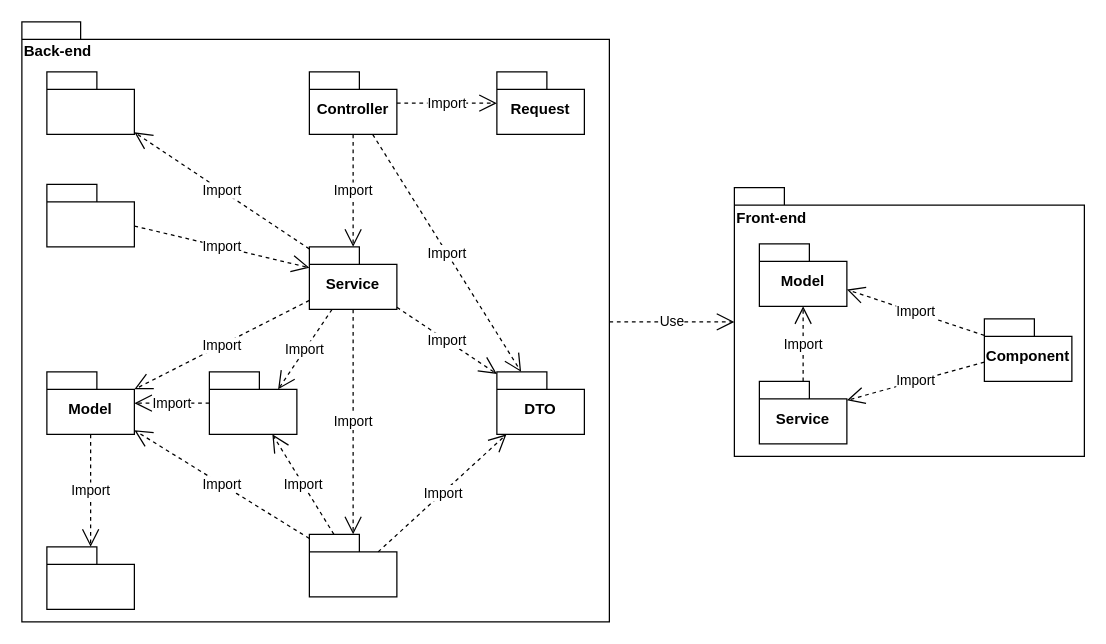
Image size: 1106x644. Some labels were removed from this diagram. Here are the shapes that lost their labels. From the top down, the centre of each, then its label:
At (90,102): "Exception".
At (90,215): "Security".
At (252,402): "Repository".
At (90,577): "Composite Key".
At (352,565): "Mapper".
